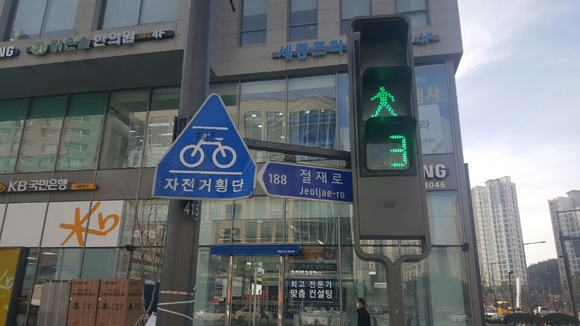traffic_light: (353, 30, 416, 121)
traffic_light_number: (356, 128, 418, 172)
